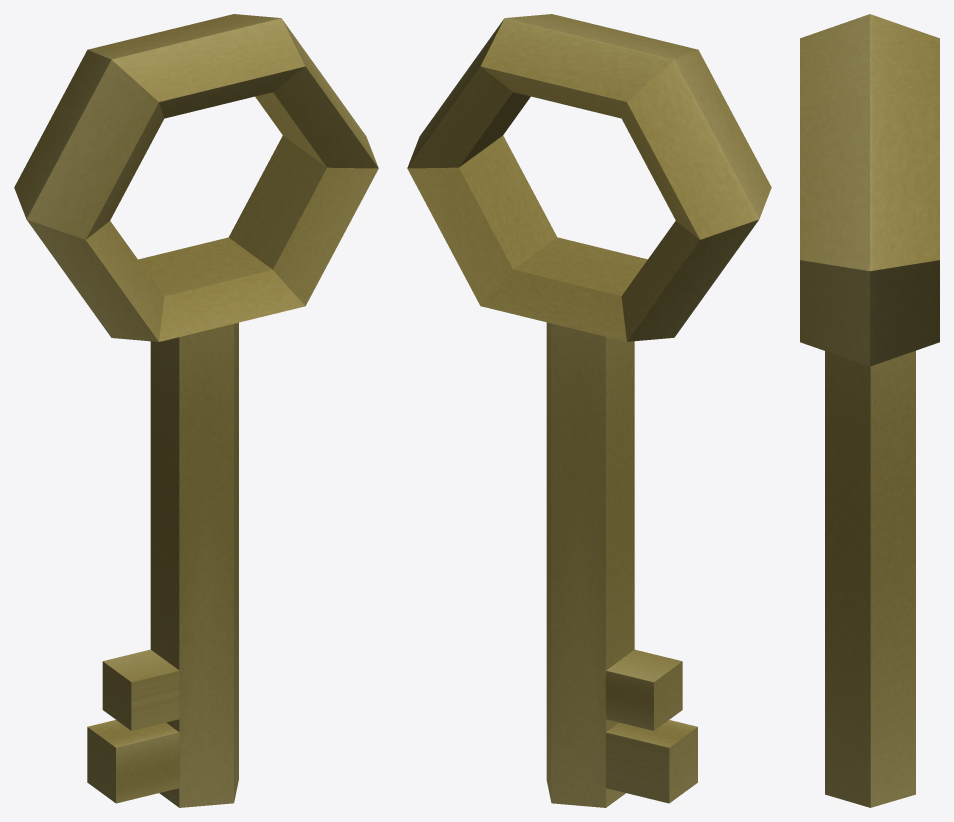
The model's file is key.fbx.
3 renders of one model, left to right at view 1: azimuth 30°, elevation 25°; view 2: azimuth 150°, elevation 25°; view 3: azimuth 270°, elevation 25°, orthographic. The views are drawn at different scales.
Parts seen in each view (by area): view 1: Torus_1; view 2: Torus_1; view 3: Torus_1.
Part boxes in pixels (x1,y1,x2,y2): Torus_1: (14,14,378,807); Torus_1: (407,14,771,807); Torus_1: (800,14,939,807).
Bounding box in the file's own units: 4051 × 8552 × 1478.
